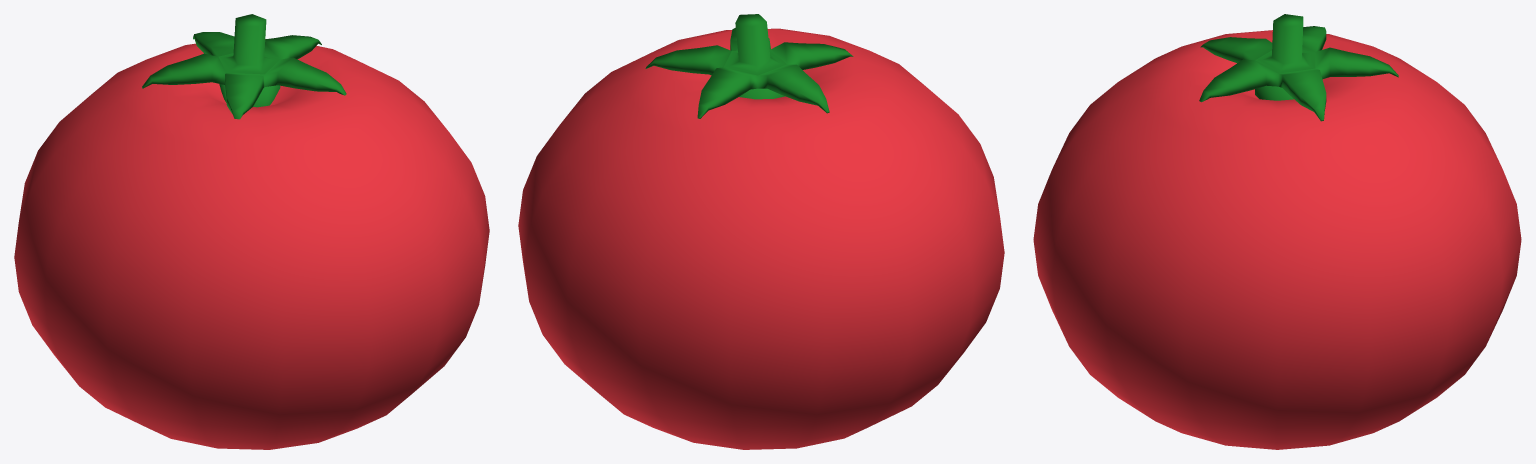
Rendered from Tomato.fbx.
3 renders of one model, left to right at view 1: azimuth 30°, elevation 25°; view 2: azimuth 150°, elevation 25°; view 3: azimuth 270°, elevation 25°, orthographic. The views are drawn at different scales.
Visible parts, largest first — view 1: Tomato; view 2: Tomato; view 3: Tomato.
Boxes of the visible parts, x1,y1,x2,y2 form: Tomato: (14, 14, 489, 449); Tomato: (518, 14, 1004, 449); Tomato: (1033, 14, 1521, 449).
Size of the model in its own units: 0.2107 by 0.2107 by 0.193.
